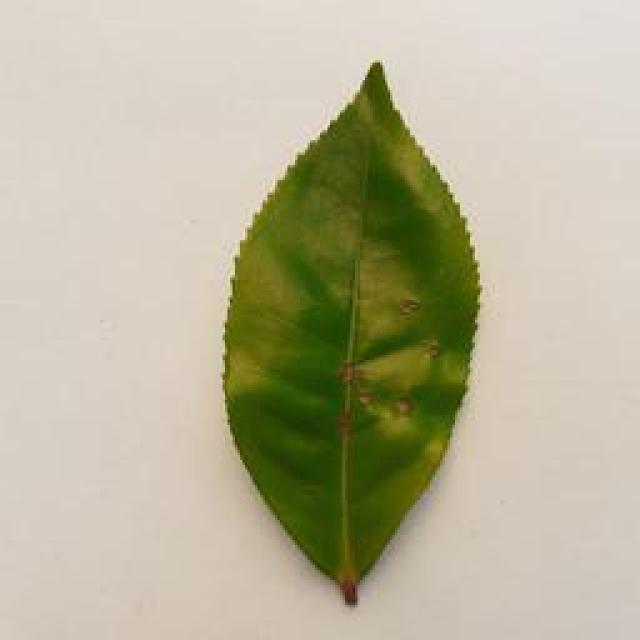Helopeltis: (216, 55, 492, 624)
